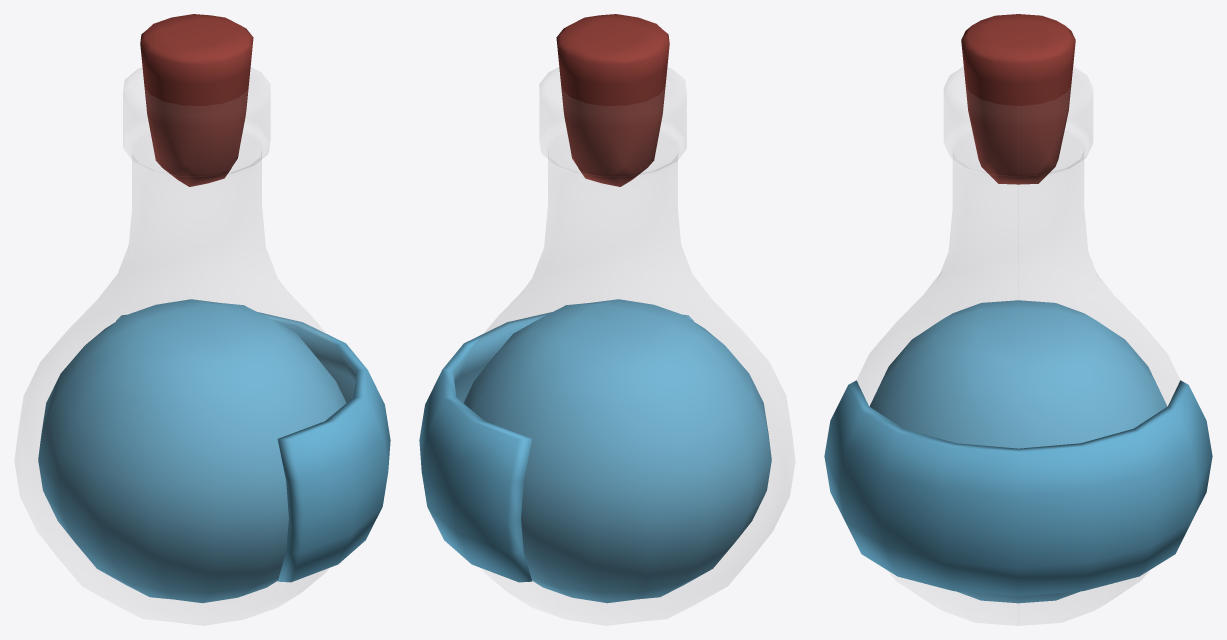
The model's file is PickupPotionSpeed.dae.
3 renders of one model, left to right at view 1: azimuth 30°, elevation 25°; view 2: azimuth 150°, elevation 25°; view 3: azimuth 270°, elevation 25°, orthographic.
Parts seen in each view (by area): view 1: PotionSpeed; view 2: PotionSpeed; view 3: PotionSpeed.
Boxes of the visible parts, left/top/right/bottom form: PotionSpeed: left=15, top=14, right=390, bottom=625; PotionSpeed: left=419, top=14, right=794, bottom=625; PotionSpeed: left=824, top=14, right=1212, bottom=625.
Bounding box in the file's own units: 0.2712 × 0.2768 × 0.4415.
